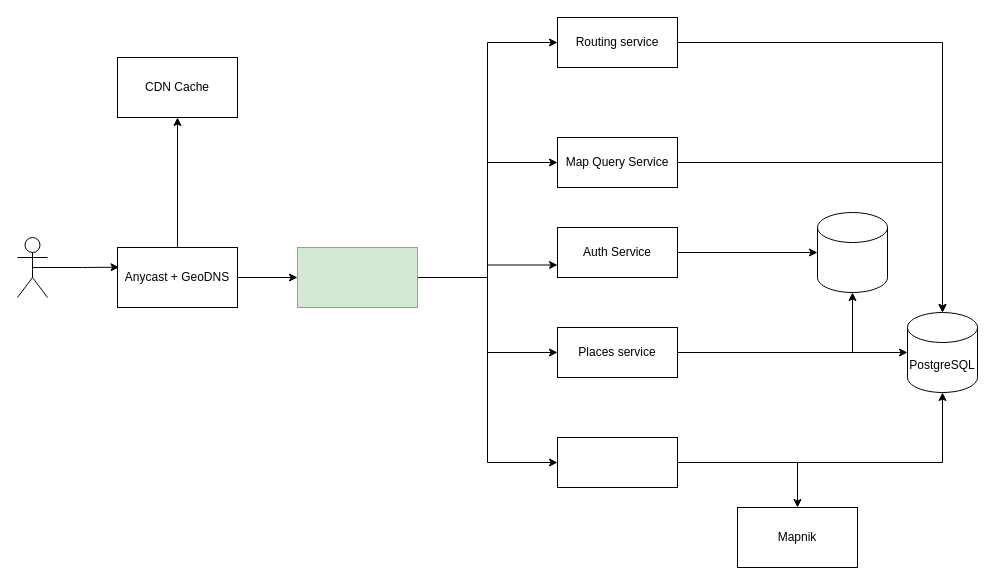
This 995x585 diagram has some shape labels left out. The shapes that lost their labels are listed below. From the top down, each one's centre as x and y in pixels, then its label:
At point (32, 267): "User".
At point (852, 252): "Cassandra".
At point (357, 277): "L7 Balancer (Nginx)".
At point (617, 462): "Tile Render Service".
